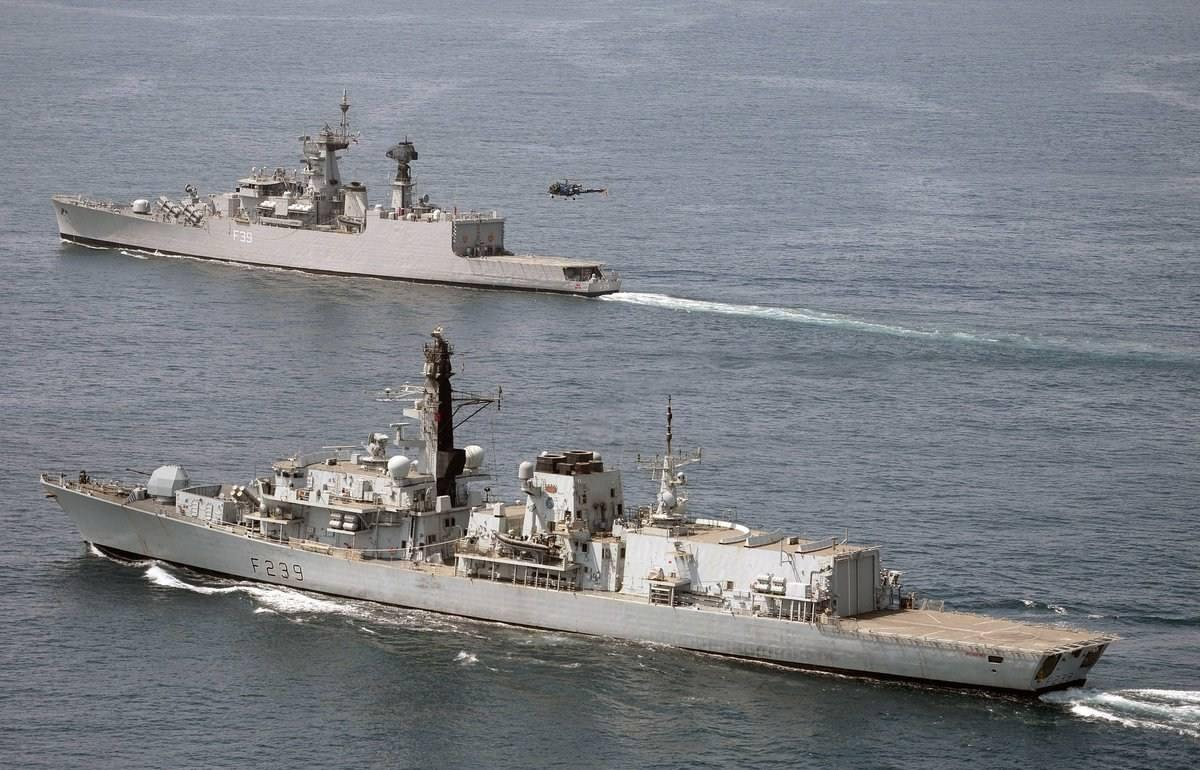airplane: (537, 174, 616, 201)
warship: (34, 316, 1126, 696), (44, 85, 618, 296)
